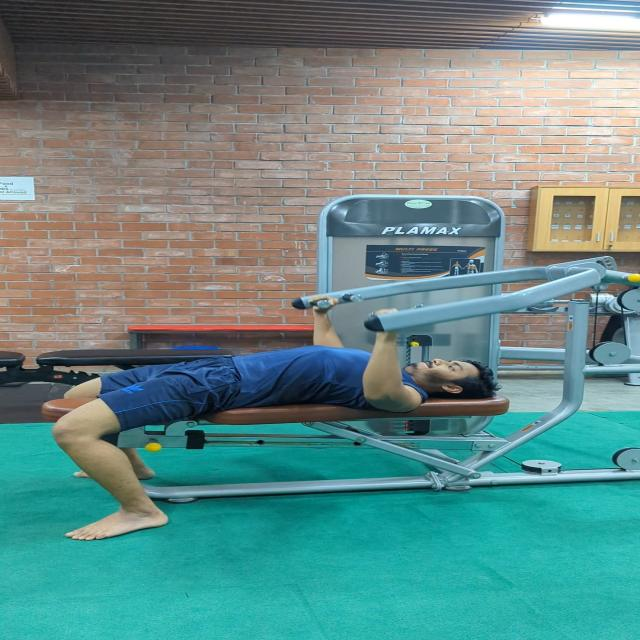Normal_BrenchPress: (48, 269, 524, 545)
